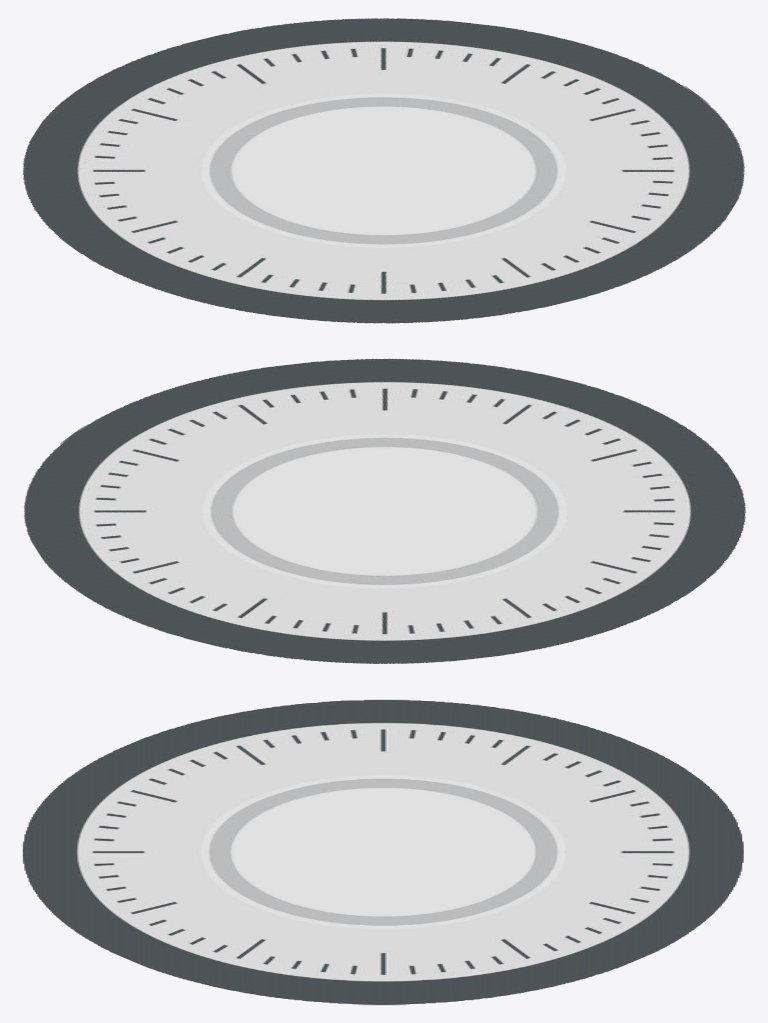
File: CylinderPlane.FBX
The picture shows the model from 3 angles, top to bottom: view 1: azimuth 30°, elevation 25°; view 2: azimuth 150°, elevation 25°; view 3: azimuth 270°, elevation 25°; orthographic projection.
Visible parts, largest first — view 1: Cylinder001; view 2: Cylinder001; view 3: Cylinder001.
Boxes of the visible parts, left/top/right/bottom form: Cylinder001: left=22, top=18, right=744, bottom=323; Cylinder001: left=23, top=358, right=745, bottom=663; Cylinder001: left=22, top=699, right=743, bottom=1005.
Size of the model in its own units: 60 by 3.67e-15 by 60.
1 material, 1 textured.
